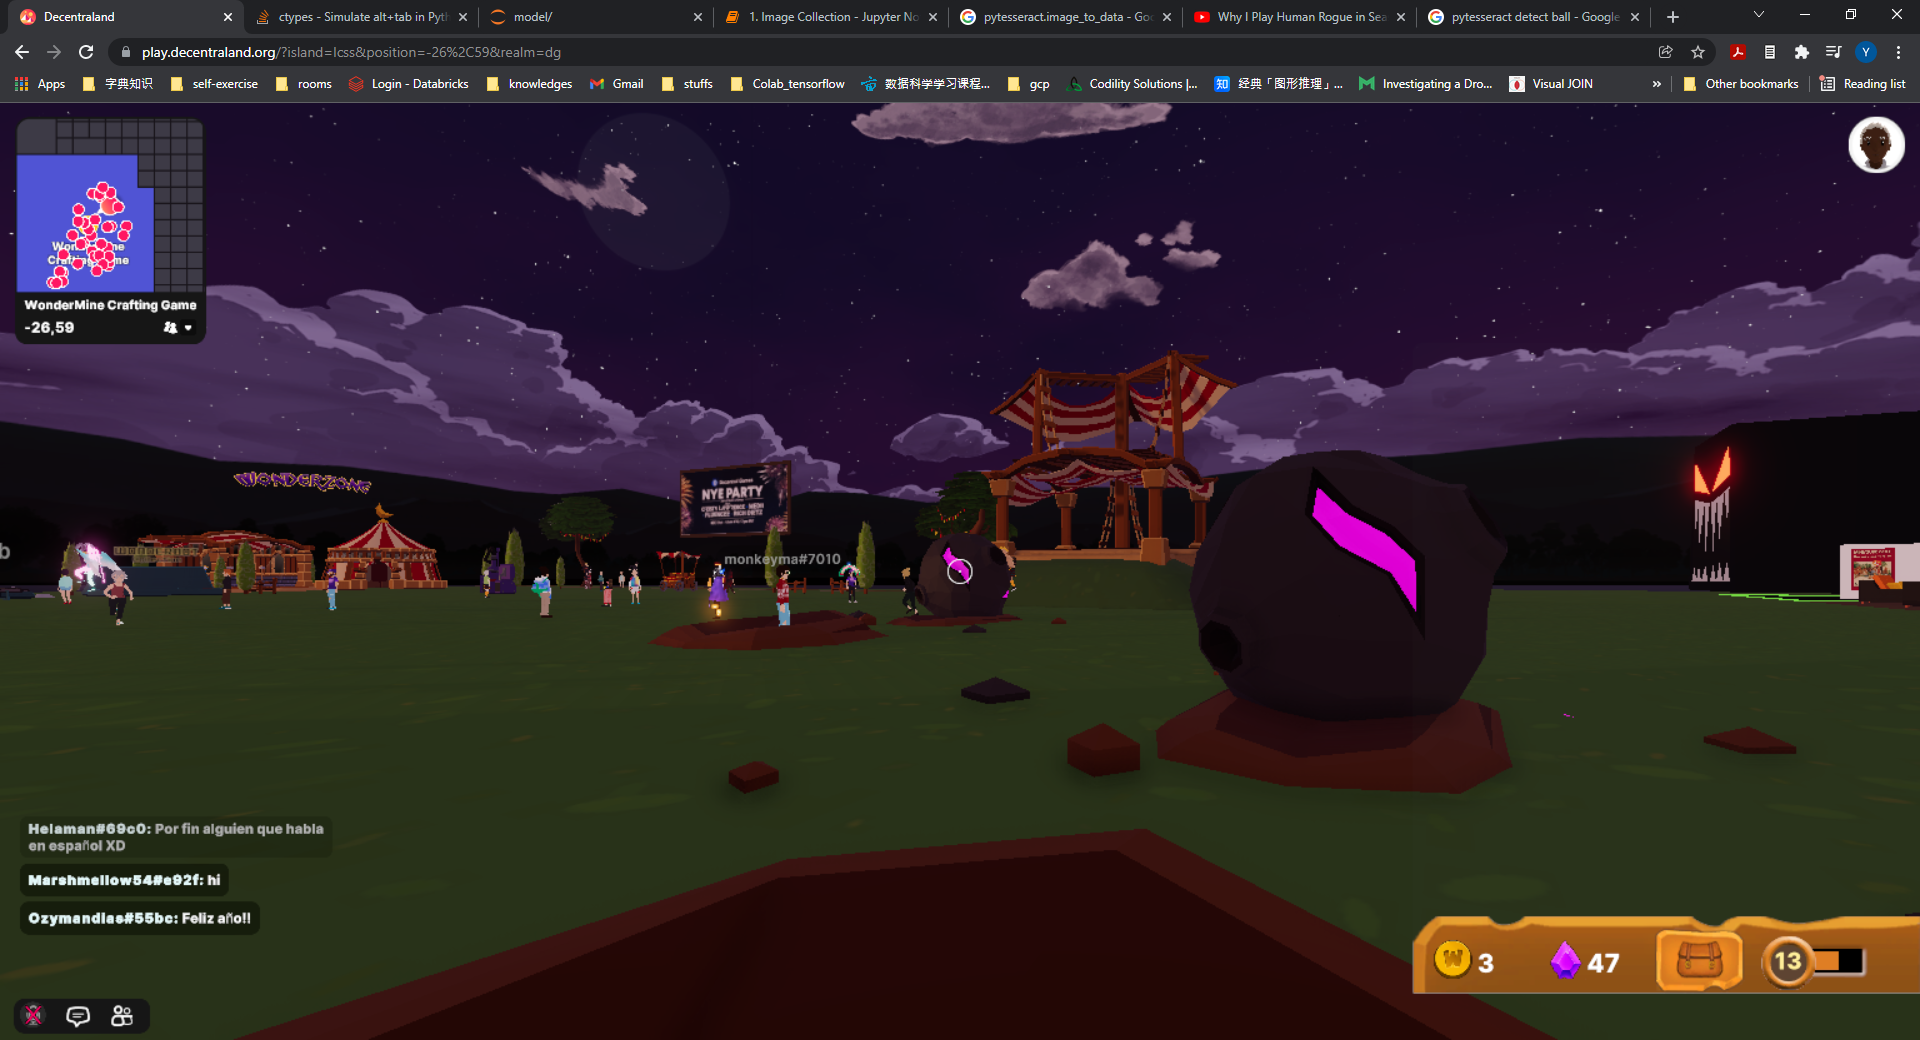black_ball: (1172, 427, 1509, 765), (902, 537, 1039, 649)
